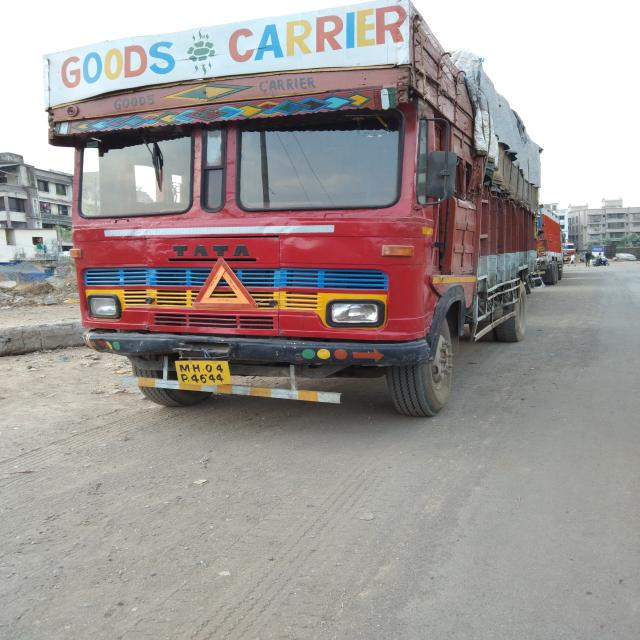Bike: (591, 256, 610, 266)
Car: (615, 250, 639, 260)
Truck: (44, 125, 533, 417), (524, 197, 564, 287), (560, 239, 578, 263)
tempo: (580, 244, 618, 258)
